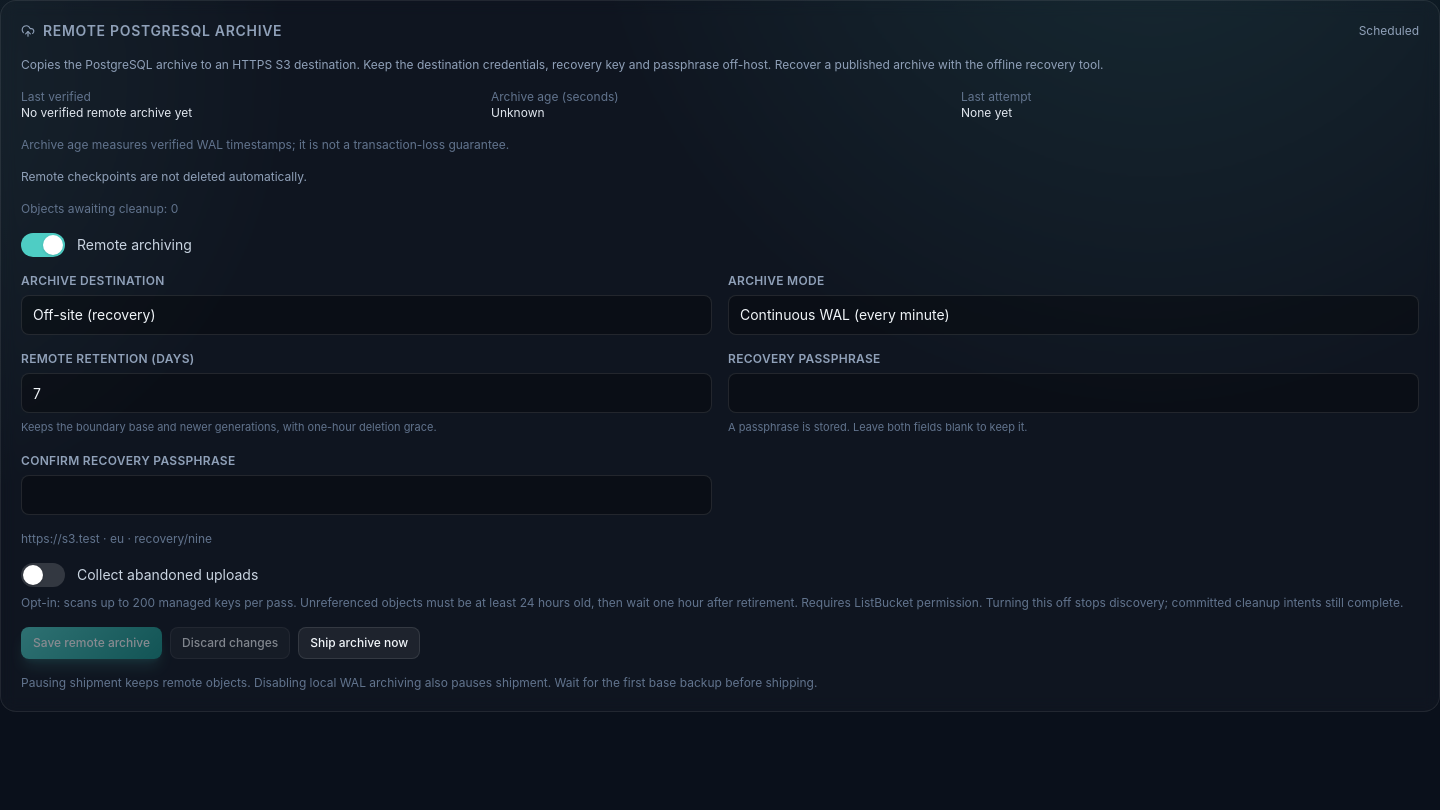
Test case: RemotePitrCard › does not let invalid hidden settings block a different archive mode
Expected: the dropdown labelled "Archive destination" is shown, top-left (21, 295), bottom-right (712, 335)
Replace the text in the field labelled "Remote retention (days)" with "36": [366, 393] box top-left (21, 373), bottom-right (712, 413)
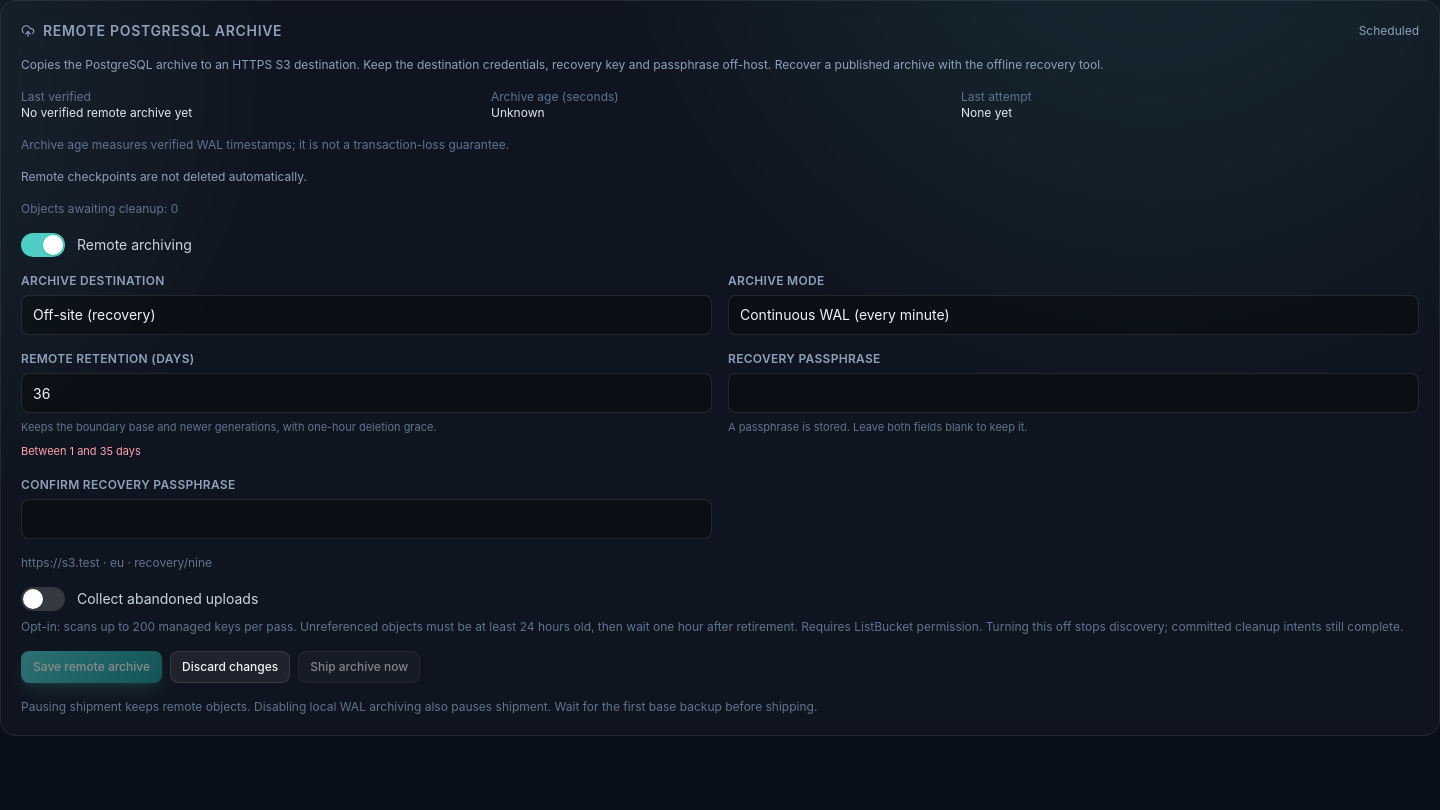
Expected: the button "Save remote archive" is disabled, top-left (21, 651), bottom-right (162, 683)
Select "Self-contained checkpoints" in the dropdown labelled "Archive mode": [1074, 315] box top-left (728, 295), bottom-right (1419, 335)
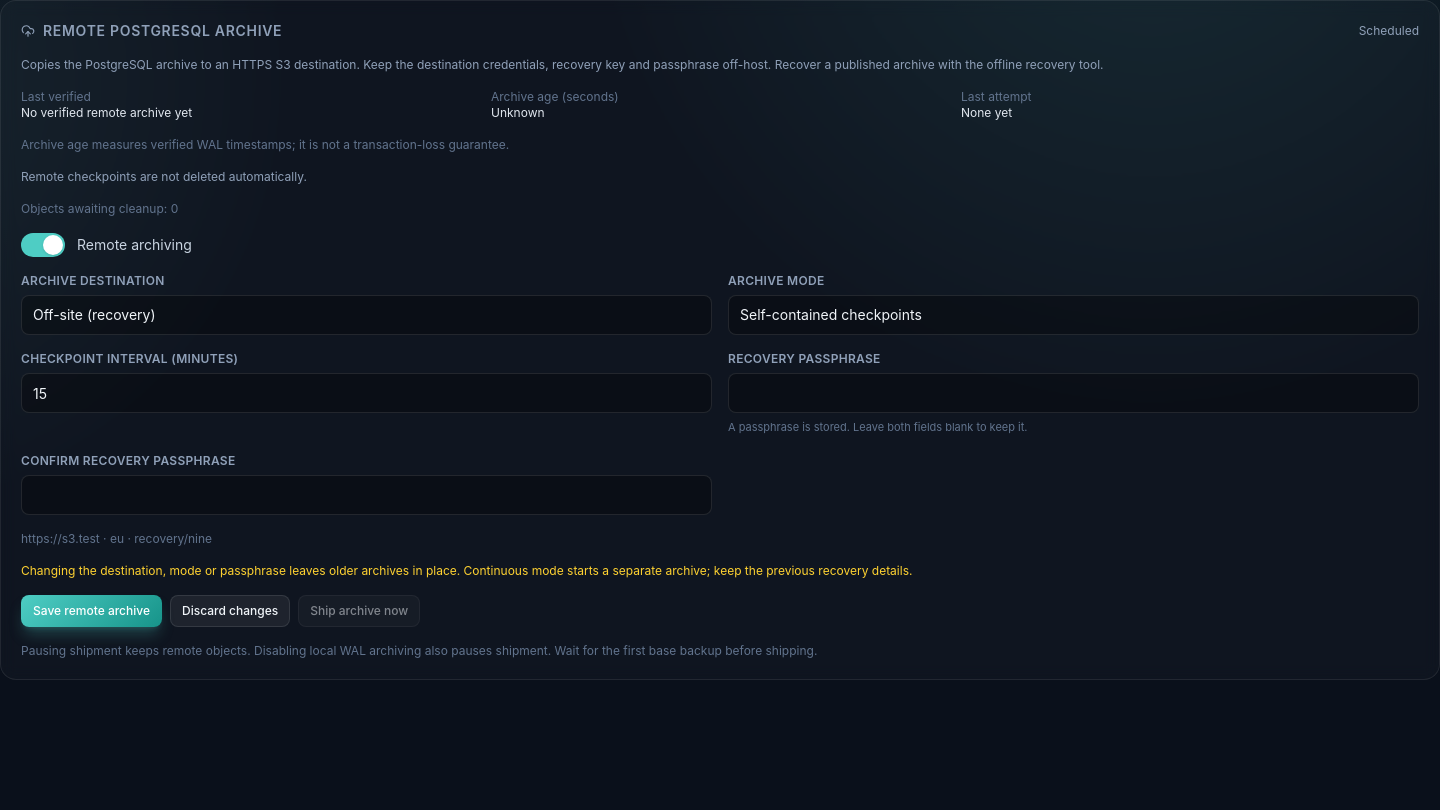
Expected: the button "Save remote archive" is enabled, top-left (21, 595), bottom-right (162, 627)
Replace the text in the field labelled "Checkpoint interval (minutes)" with "14": [366, 393] box top-left (21, 373), bottom-right (712, 413)
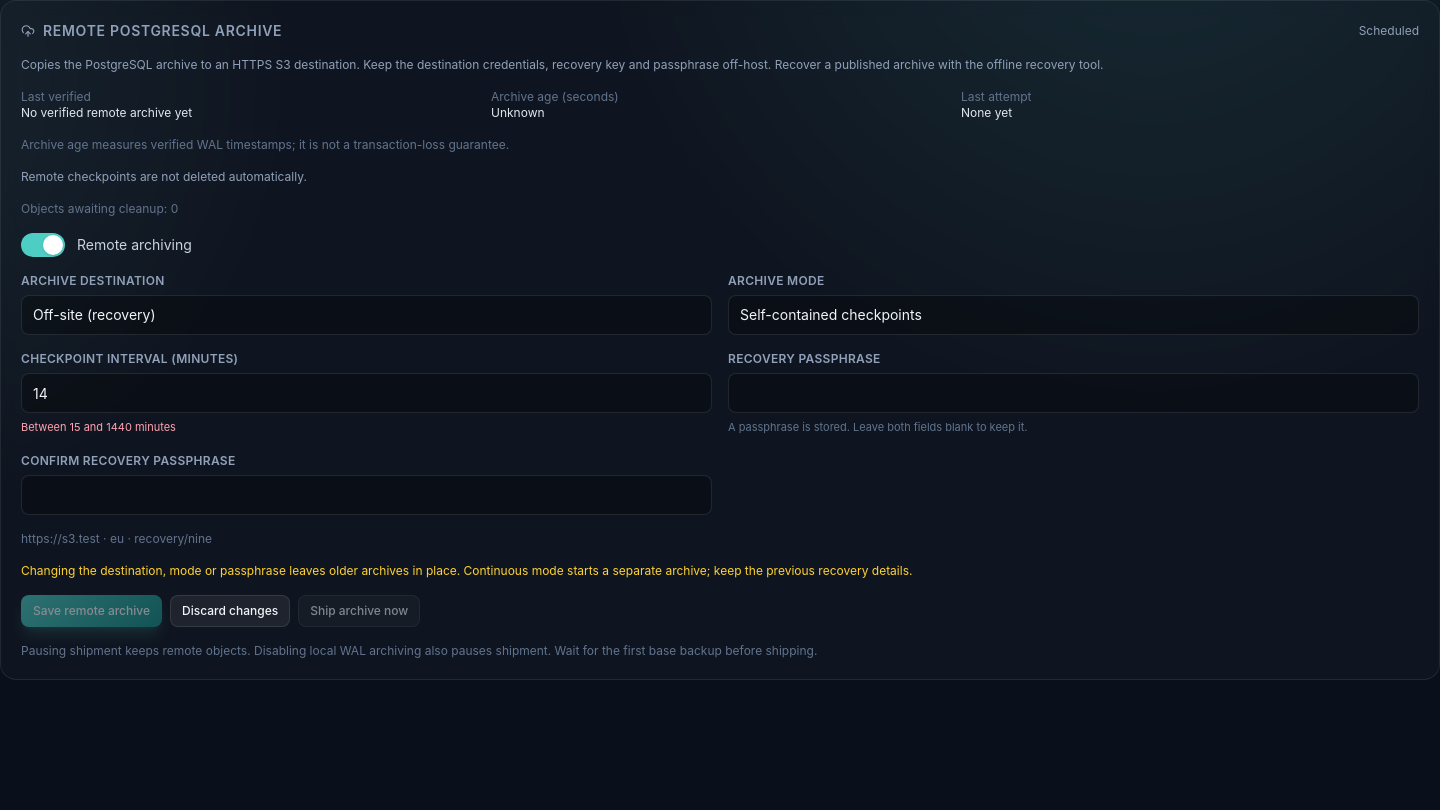
Expected: the button "Save remote archive" is disabled, top-left (21, 595), bottom-right (162, 627)
Select "Continuous WAL (every minute)" in the dropdown labelled "Archive mode": [1074, 315] box top-left (728, 295), bottom-right (1419, 335)
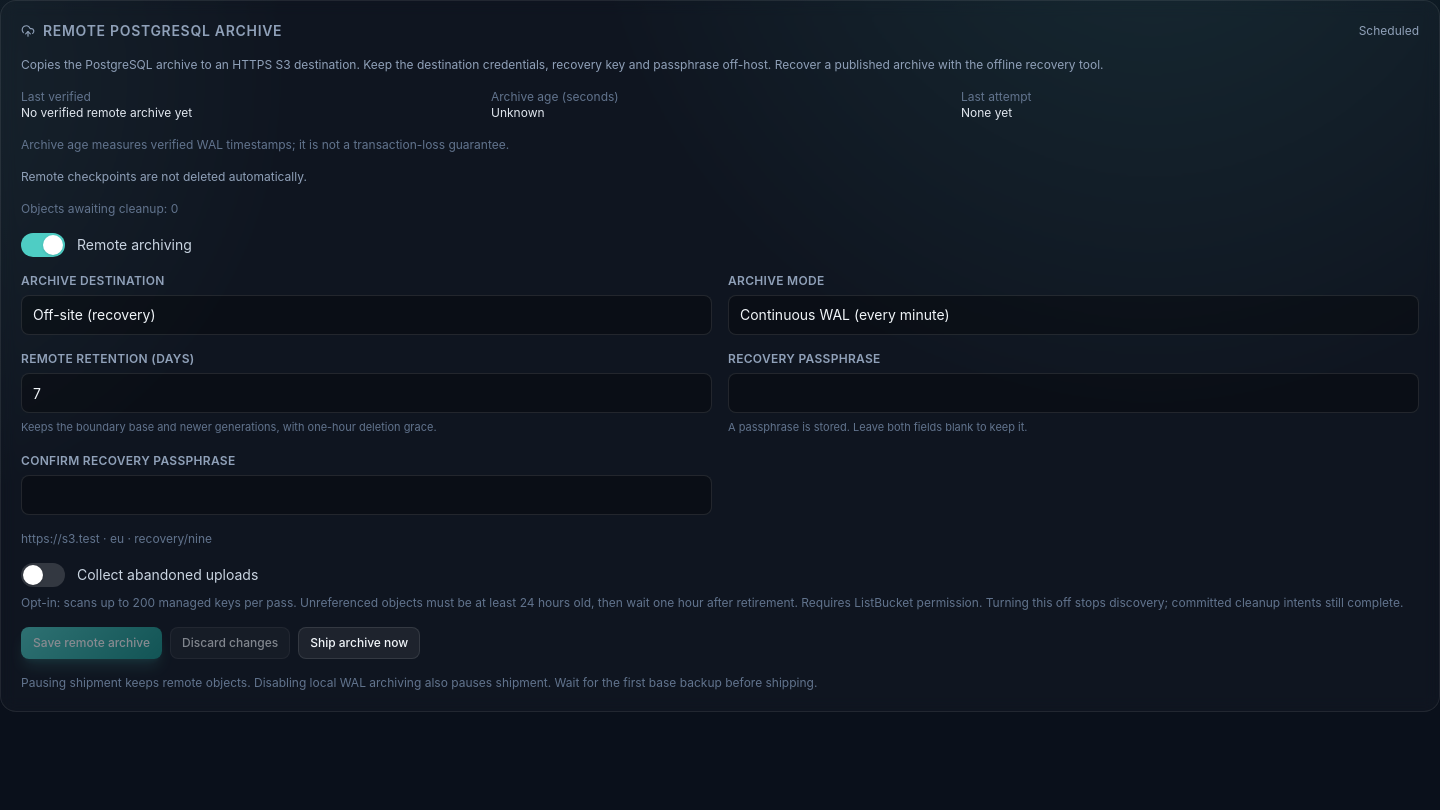
Replace the text in the field labelled "Remote retention (days)" with "8": [366, 393] box top-left (21, 373), bottom-right (712, 413)
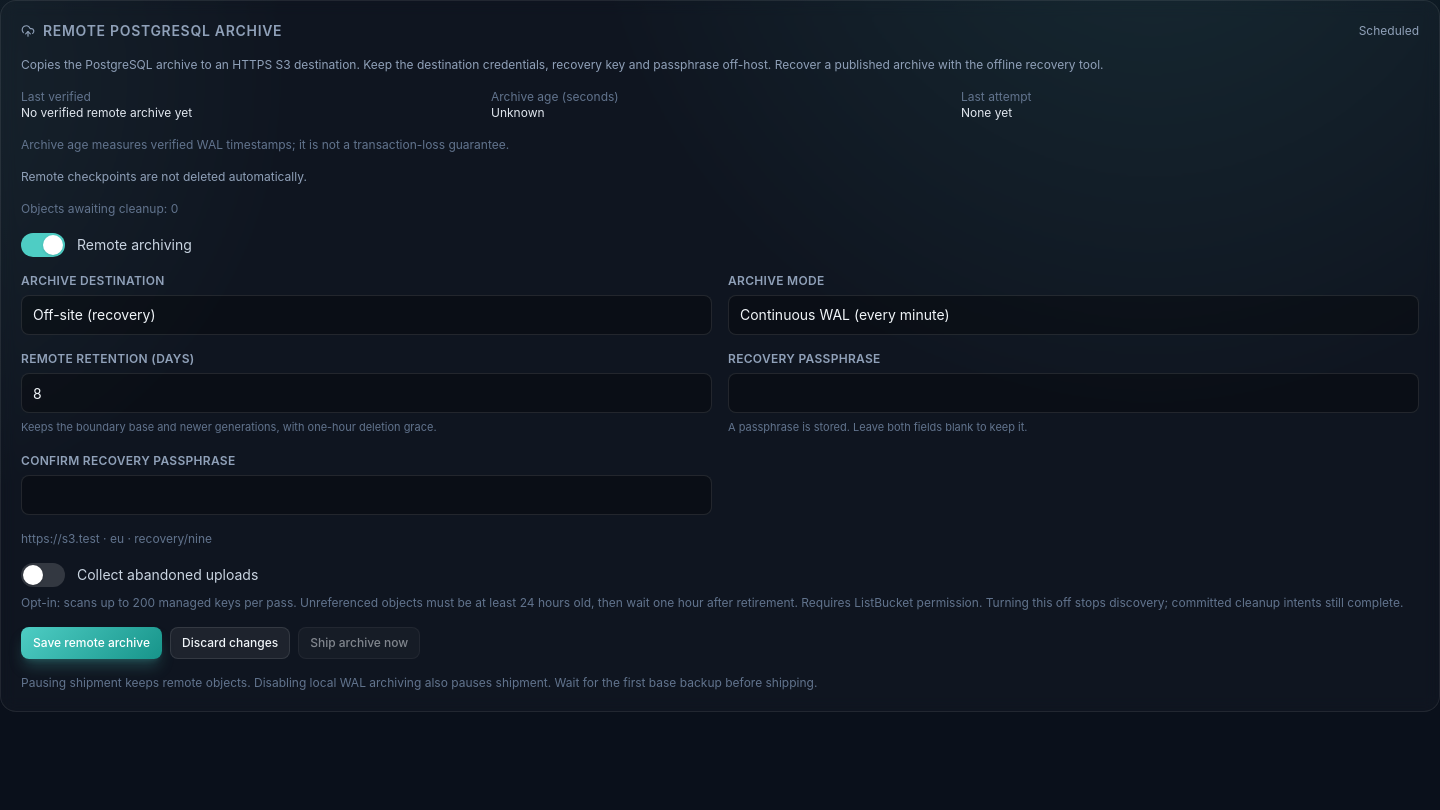
Expected: the button "Save remote archive" is enabled, top-left (21, 627), bottom-right (162, 659)
